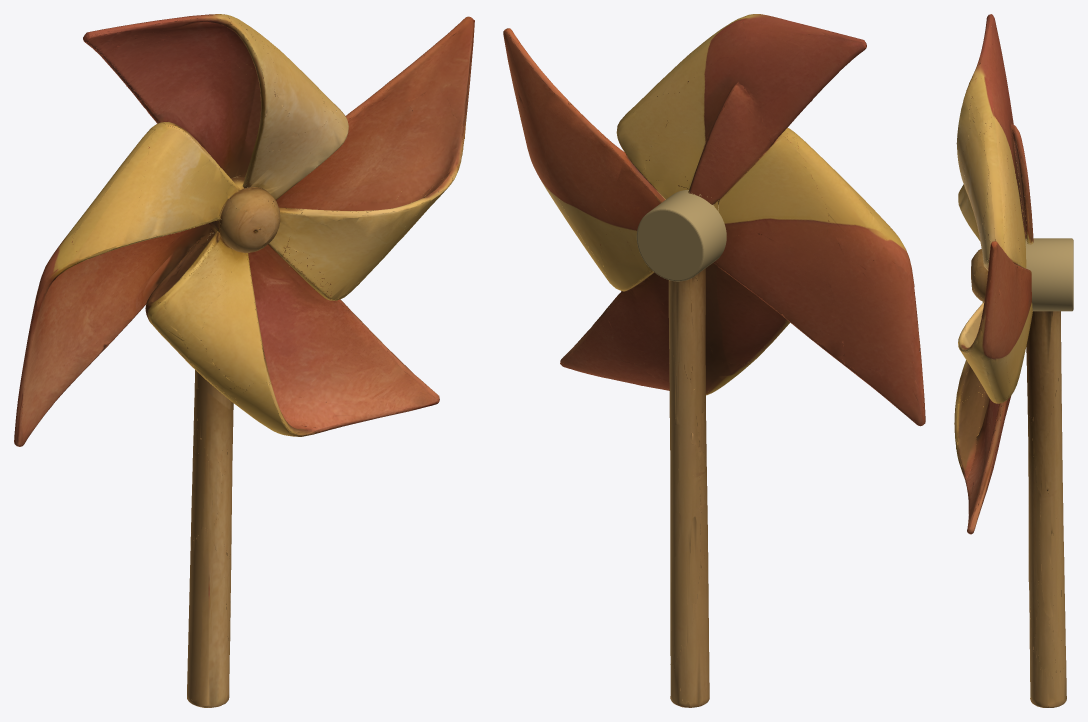
The model's file is xiaofengche.glb.
The picture shows the model from 3 angles, left to right: view 1: azimuth 30°, elevation 25°; view 2: azimuth 150°, elevation 25°; view 3: azimuth 270°, elevation 25°; orthographic projection. The views are drawn at different scales.
Visible parts, largest first — view 1: GEO-修复叶片, GEO-修复手柄; view 2: GEO-修复叶片, GEO-修复手柄, GEO-完整后轴套; view 3: GEO-修复叶片, GEO-修复手柄, GEO-完整后轴套.
Part boxes in pixels (x1,y1,x2,y2): GEO-修复叶片: [14, 14, 474, 446]; GEO-修复手柄: [187, 240, 233, 707]; GEO-修复叶片: [503, 14, 925, 426]; GEO-修复手柄: [668, 185, 720, 707]; GEO-完整后轴套: [636, 190, 726, 281]; GEO-修复叶片: [954, 14, 1033, 534]; GEO-修复手柄: [1025, 234, 1066, 707]; GEO-完整后轴套: [1025, 238, 1073, 311].
Size of the model in its own units: 0.7172 by 1.09 by 0.1889.
Materials: 2 (1 with a texture image).
